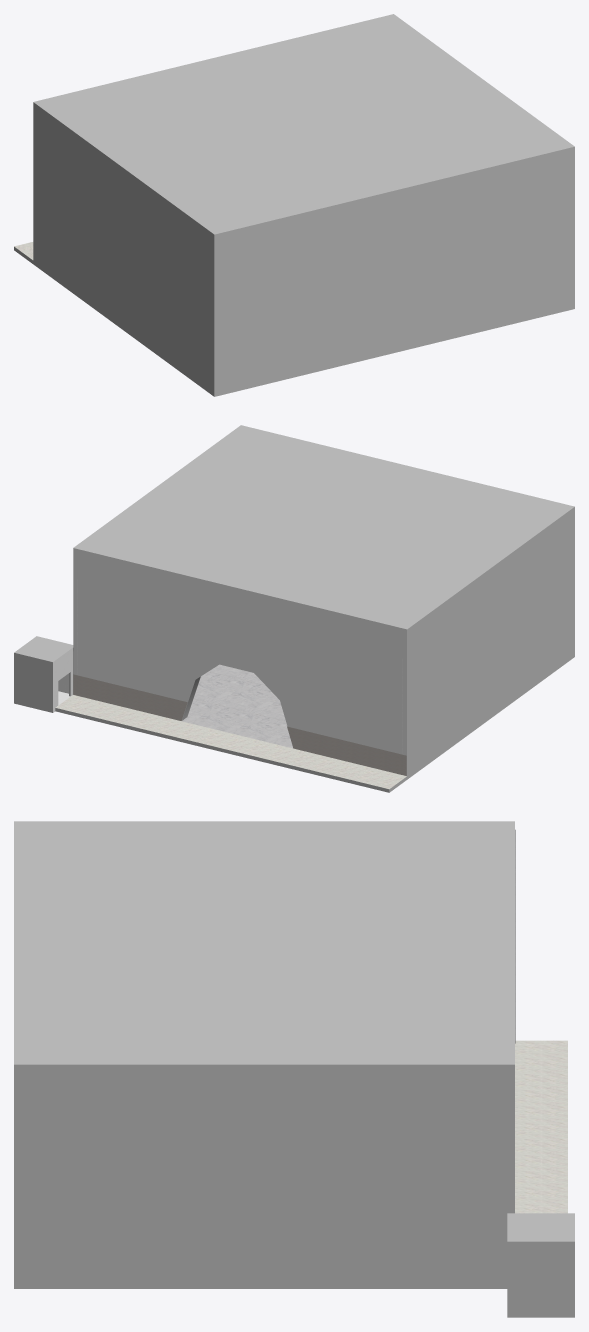
File: stage1_최종본.fbx
The picture shows the model from 3 angles, top to bottom: view 1: azimuth 30°, elevation 25°; view 2: azimuth 150°, elevation 25°; view 3: azimuth 270°, elevation 25°; orthographic projection. The views are drawn at different scales.
Parts seen in each view (by area): view 1: building; view 2: building, hall, Plane001, hallFloor, floor, Plane_1, Plane_2, stairFront; view 3: building, hallFloor.
Part boxes in pixels (x1=…): building: x1=14, y1=14, x2=574, y2=396; building: x1=14, y1=425, x2=574, y2=792; hall: x1=73, y1=548, x2=406, y2=775; Plane001: x1=73, y1=552, x2=405, y2=659; hallFloor: x1=55, y1=695, x2=406, y2=789; floor: x1=181, y1=664, x2=292, y2=748; Plane_1: x1=287, y1=726, x2=406, y2=775; Plane_2: x1=73, y1=674, x2=187, y2=720; stairFront: x1=53, y1=648, x2=72, y2=712; building: x1=14, y1=821, x2=574, y2=1317; hallFloor: x1=515, y1=1040, x2=567, y2=1213.
Bounding box in the file's own units: 8568 × 3301 × 7477.
